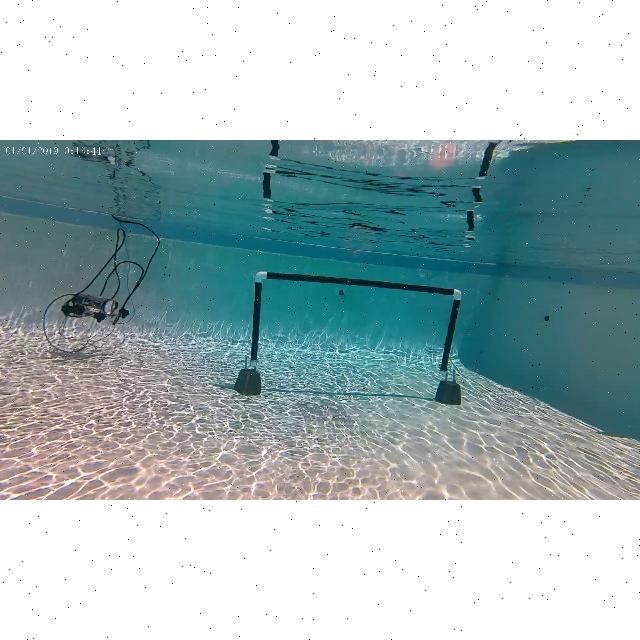prequal gate: (250, 271, 462, 375)
prequal gate leg l: (252, 269, 268, 371)
prequal gate leg r: (438, 284, 462, 376)
